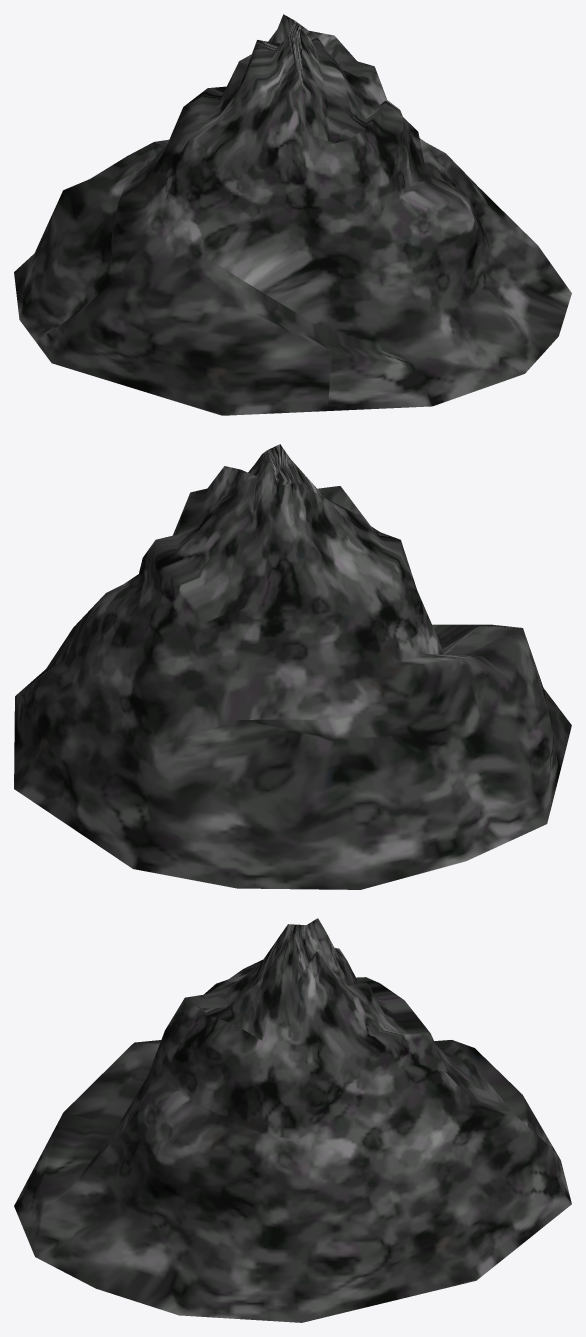
The model's file is INST_SWORDLIGHT_ORED.fbx.
The picture shows the model from 3 angles, top to bottom: view 1: azimuth 30°, elevation 25°; view 2: azimuth 150°, elevation 25°; view 3: azimuth 270°, elevation 25°; orthographic projection. The views are drawn at different scales.
Visible parts, largest first — view 1: INST_SWORDLIGHT_ORED; view 2: INST_SWORDLIGHT_ORED; view 3: INST_SWORDLIGHT_ORED.
Boxes of the visible parts, x1,y1,x2,y2 form: INST_SWORDLIGHT_ORED: (14, 14, 571, 415); INST_SWORDLIGHT_ORED: (14, 444, 571, 889); INST_SWORDLIGHT_ORED: (14, 918, 571, 1322).
Size of the model in its own units: 34503 by 19560 by 34351.
Materials: 1 (1 with a texture image).
